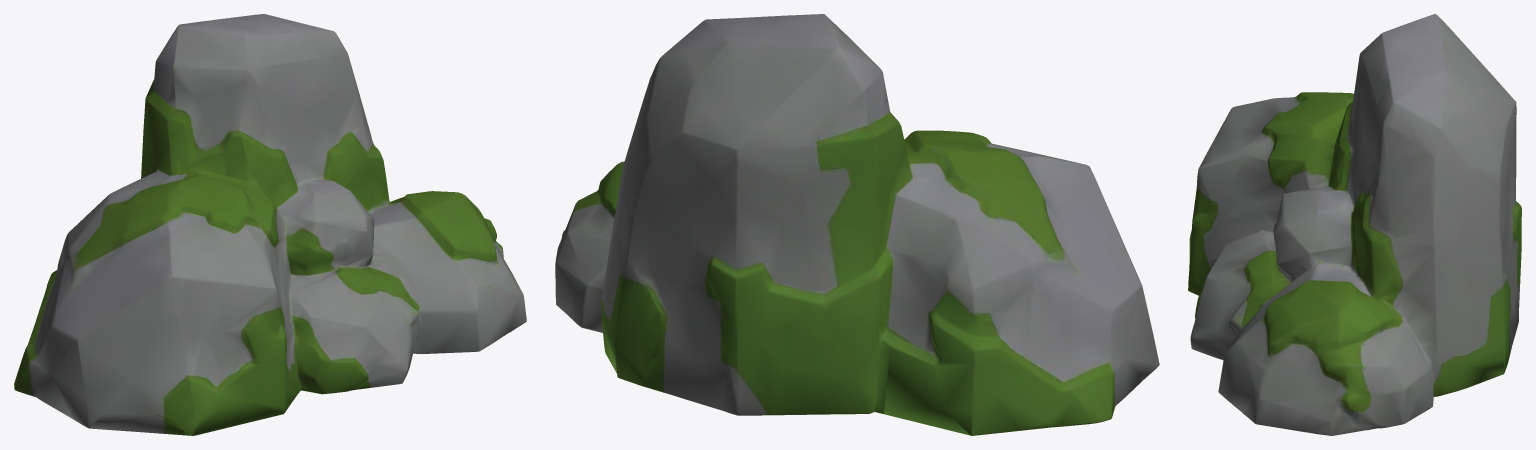
The model's file is rock.glb.
The picture shows the model from 3 angles, left to right: view 1: azimuth 30°, elevation 25°; view 2: azimuth 150°, elevation 25°; view 3: azimuth 270°, elevation 25°; orthographic projection. The views are drawn at different scales.
Parts seen in each view (by area): view 1: Mesh_0; view 2: Mesh_0; view 3: Mesh_0.
Part boxes in pixels (x1,y1,x2,y2): Mesh_0: (14,14,526,435); Mesh_0: (555,14,1159,435); Mesh_0: (1188,14,1521,435).
Bounding box in the file's own units: 1.91 × 1.12 × 1.17.
1 material, 1 textured.
